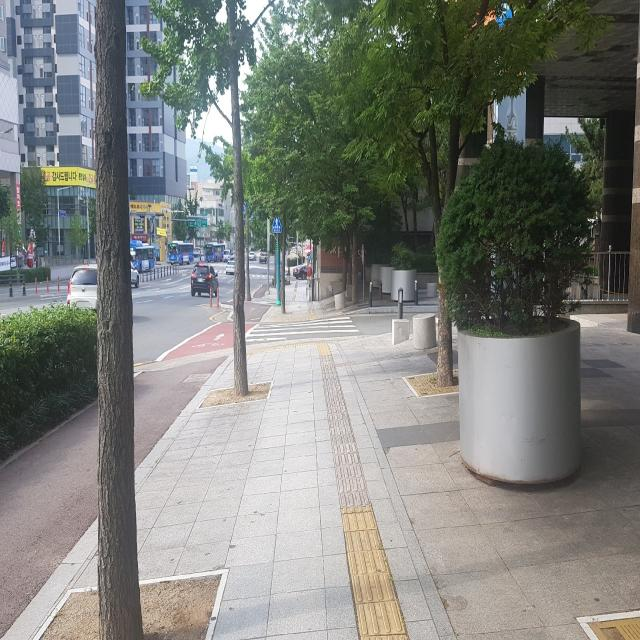횡단보도: (245, 316, 360, 342)
